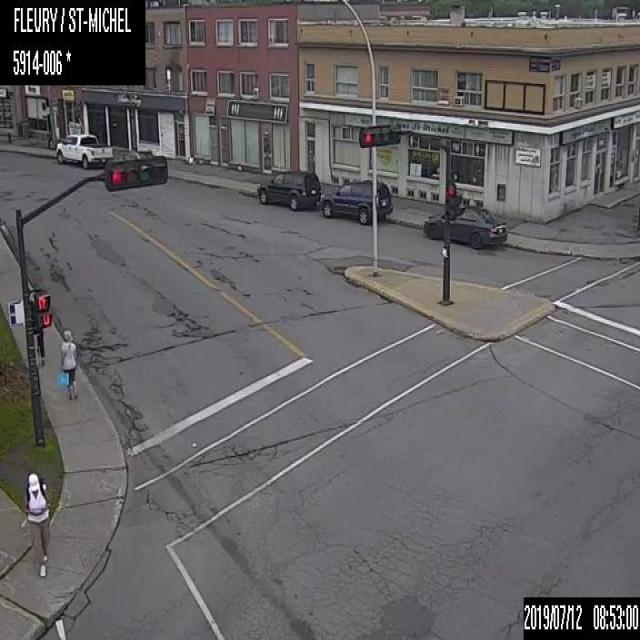pedestrian: (24, 473, 51, 578), (56, 328, 76, 400)
vehicle: (423, 202, 508, 250), (322, 177, 392, 225), (256, 167, 322, 210), (54, 131, 112, 168)
